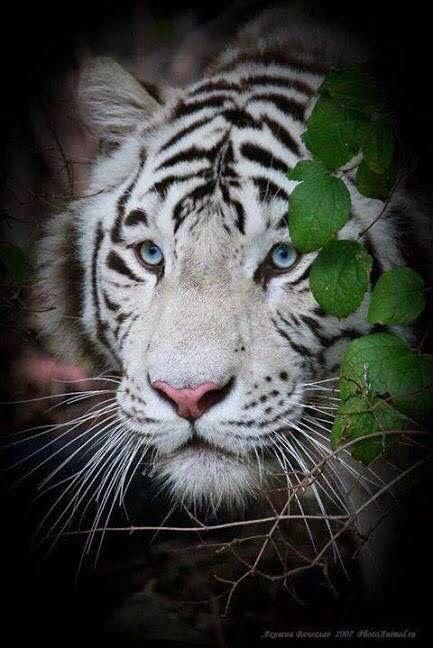Tigrew: (7, 19, 400, 531)
